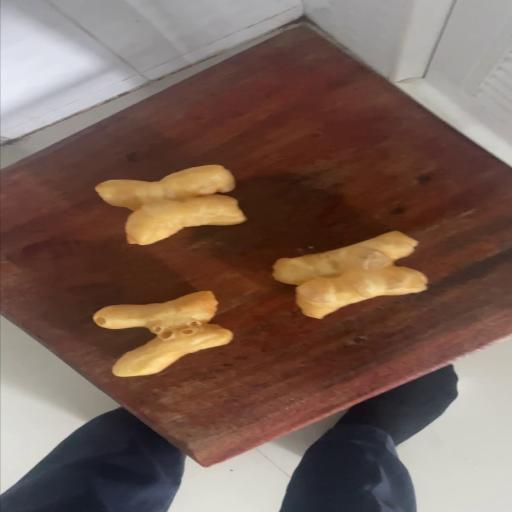street_golden_defect: (268, 232, 426, 318), (93, 292, 231, 376)
street_golden_good: (95, 166, 246, 244)
